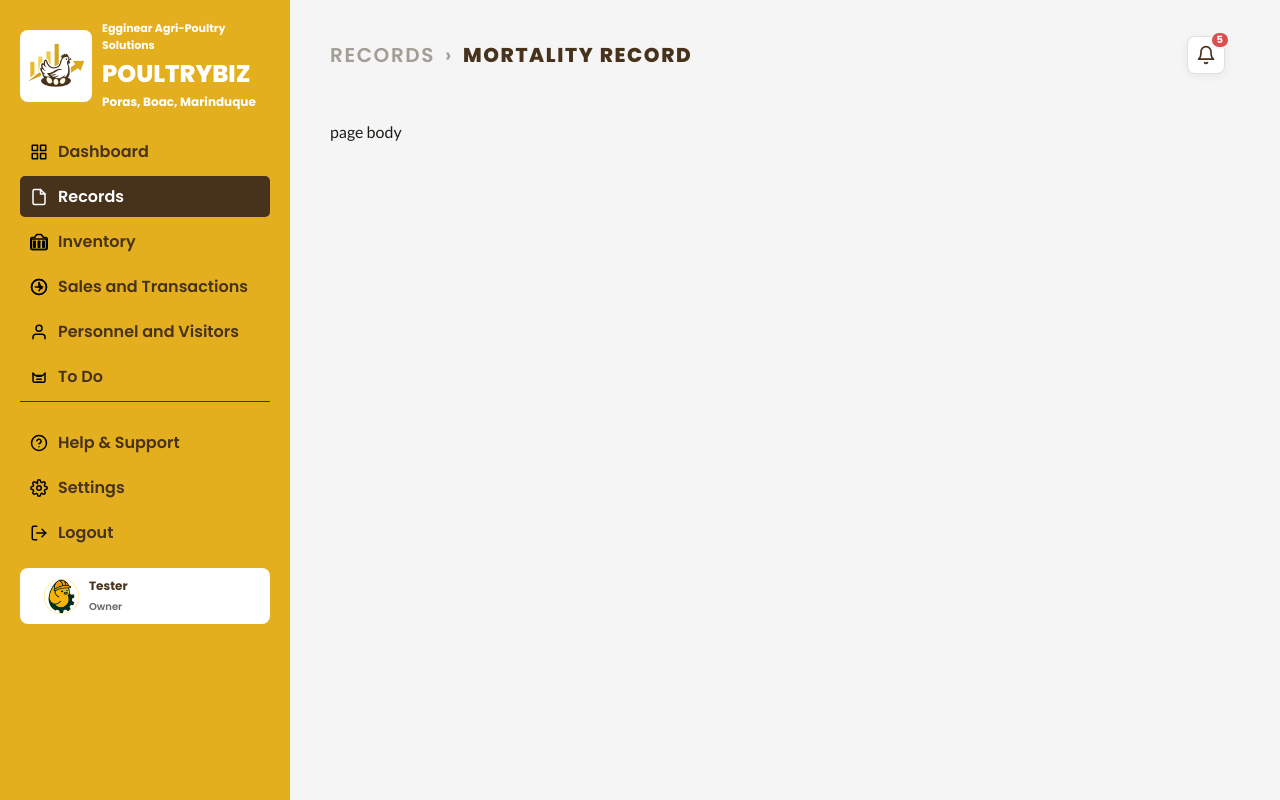
Test: Bell opens the EXISTING Notifications module and stays in sync with it › click -> existing /notifications page with its tabs, filters and rows; Bell marks itself active
Expected: the text "5" is shown, x1=1210 y1=31 x2=1230 y2=49
Click the link "5" at (1206, 55), box x1=1187 y1=36 x2=1225 y2=74
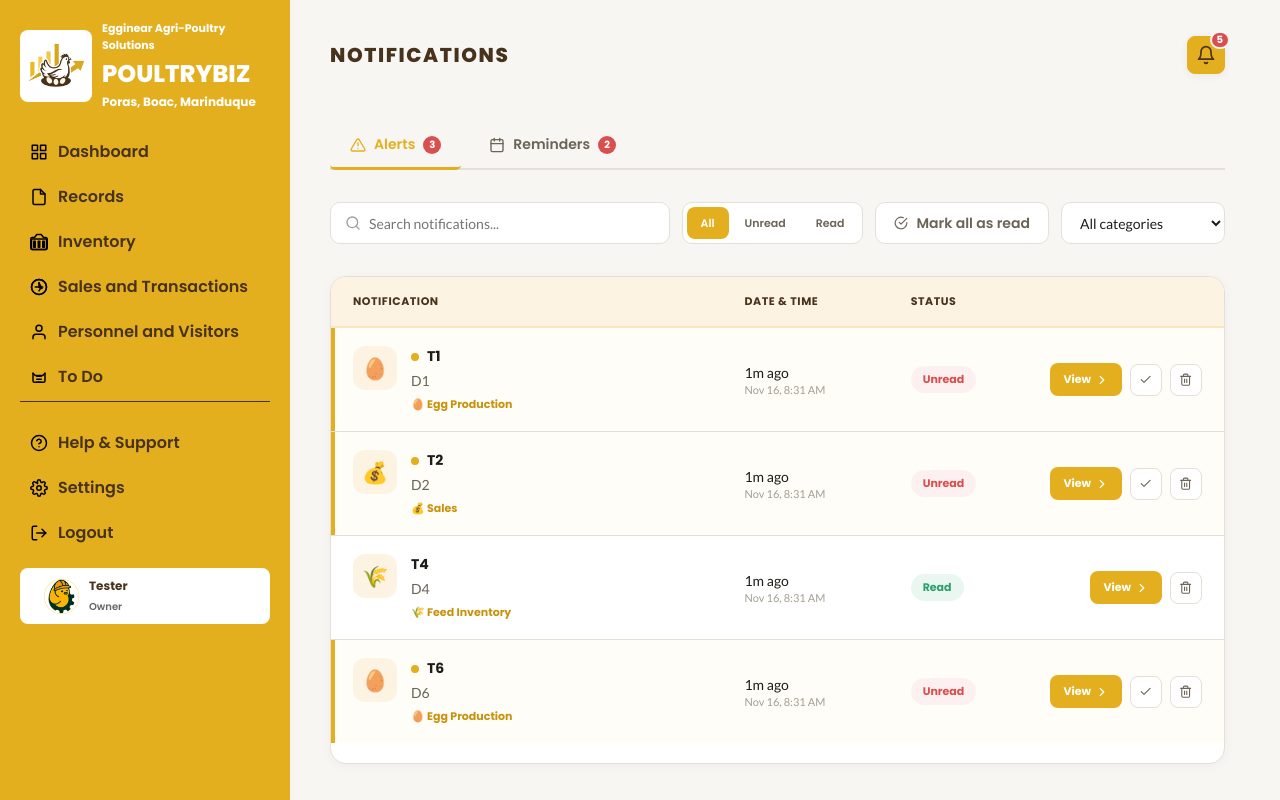
Now the button "Mark all as read" is shown, box x1=875 y1=202 x2=1049 y2=244
Now the button "Alerts 3" is shown, box x1=330 y1=122 x2=461 y2=170
Now the button "Reminders 2" is shown, box x1=469 y1=122 x2=636 y2=170
